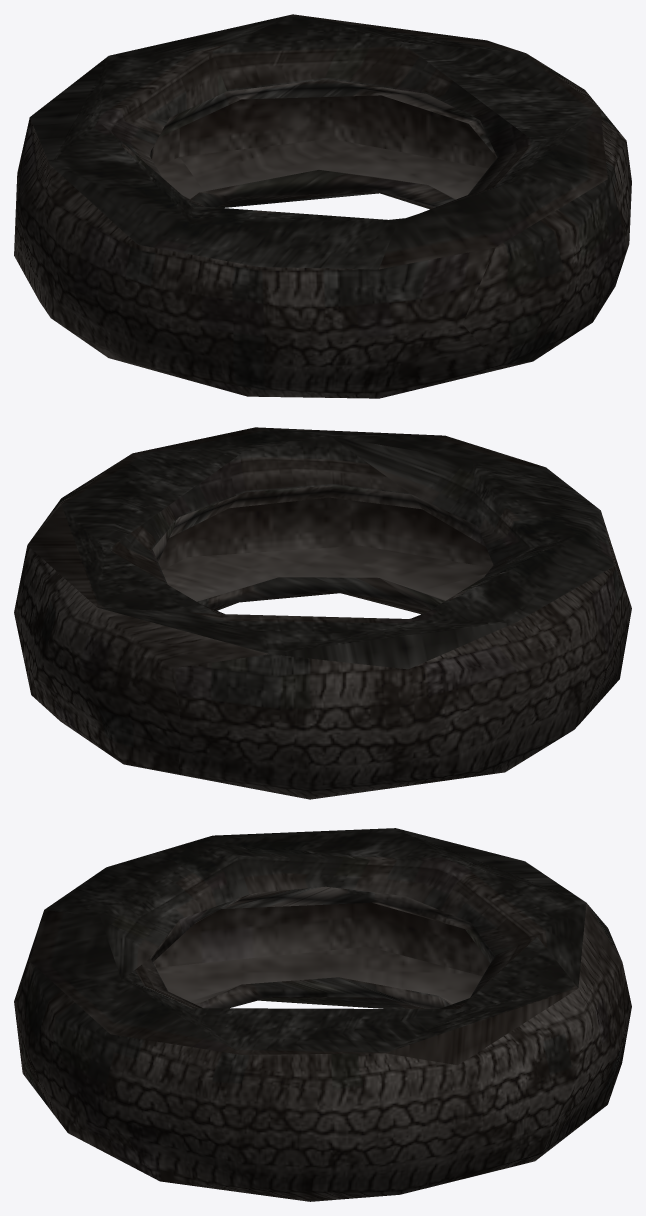
File: tyre.glb
The picture shows the model from 3 angles, top to bottom: view 1: azimuth 30°, elevation 25°; view 2: azimuth 150°, elevation 25°; view 3: azimuth 270°, elevation 25°; orthographic projection. The views are drawn at different scales.
Parts seen in each view (by area): view 1: tyre; view 2: tyre; view 3: tyre.
Boxes of the visible parts, x1=… form: tyre: x1=14, y1=14, x2=631, y2=398; tyre: x1=14, y1=427, x2=631, y2=799; tyre: x1=14, y1=828, x2=631, y2=1201.
Bounding box in the file's own units: 0.6041 × 0.1676 × 0.6061.
Materials: 1 (1 with a texture image).
